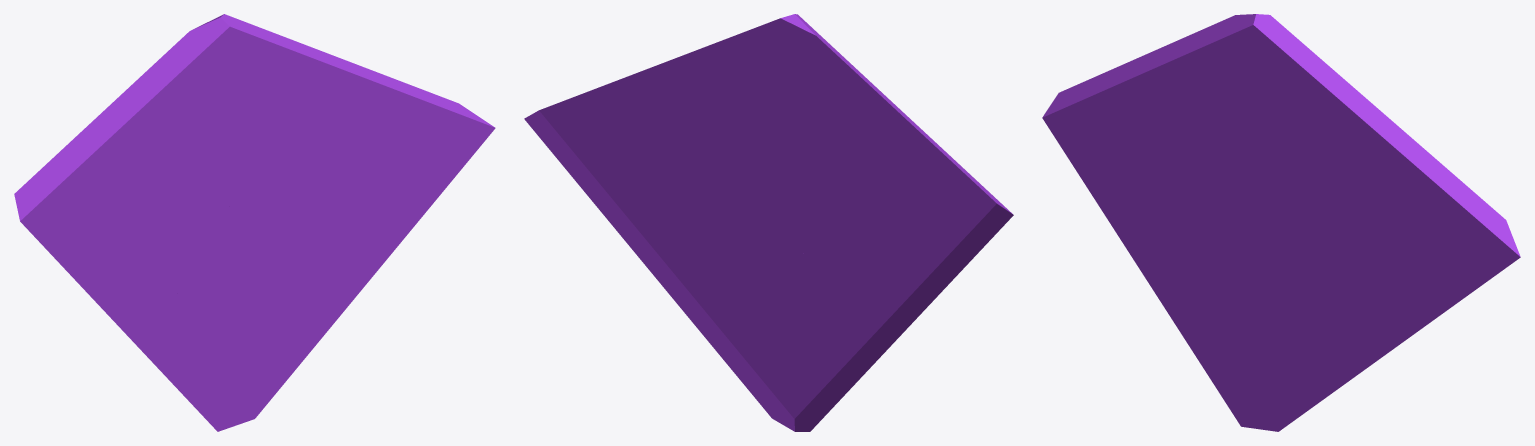
Rendered from Glass_85_20_chunks.fbx.
3 renders of one model, left to right at view 1: azimuth 30°, elevation 25°; view 2: azimuth 150°, elevation 25°; view 3: azimuth 330°, elevation 25°, orthographic. The views are drawn at different scales.
Visible parts, largest first — view 1: Glass_85_20_3, Glass_85_20_1, Glass_85_20_2; view 2: Glass_85_20_2, Glass_85_20_3, Glass_85_20_1, Glass_85_20_0; view 3: Glass_85_20_3, Glass_85_20_1, Glass_85_20_2.
Part boxes in pixels (x1,y1,x2,y2): Glass_85_20_3: (156,14,495,202); Glass_85_20_1: (143,186,446,431); Glass_85_20_2: (14,62,231,351); Glass_85_20_2: (783,68,1013,349); Glass_85_20_3: (524,14,859,195); Glass_85_20_1: (574,179,887,431); Glass_85_20_0: (575,169,795,249); Glass_85_20_3: (1192,14,1520,292); Glass_85_20_1: (1165,203,1471,431); Glass_85_20_2: (1042,30,1254,308).
Size of the model in its own units: 669 by 548 by 27.2.
